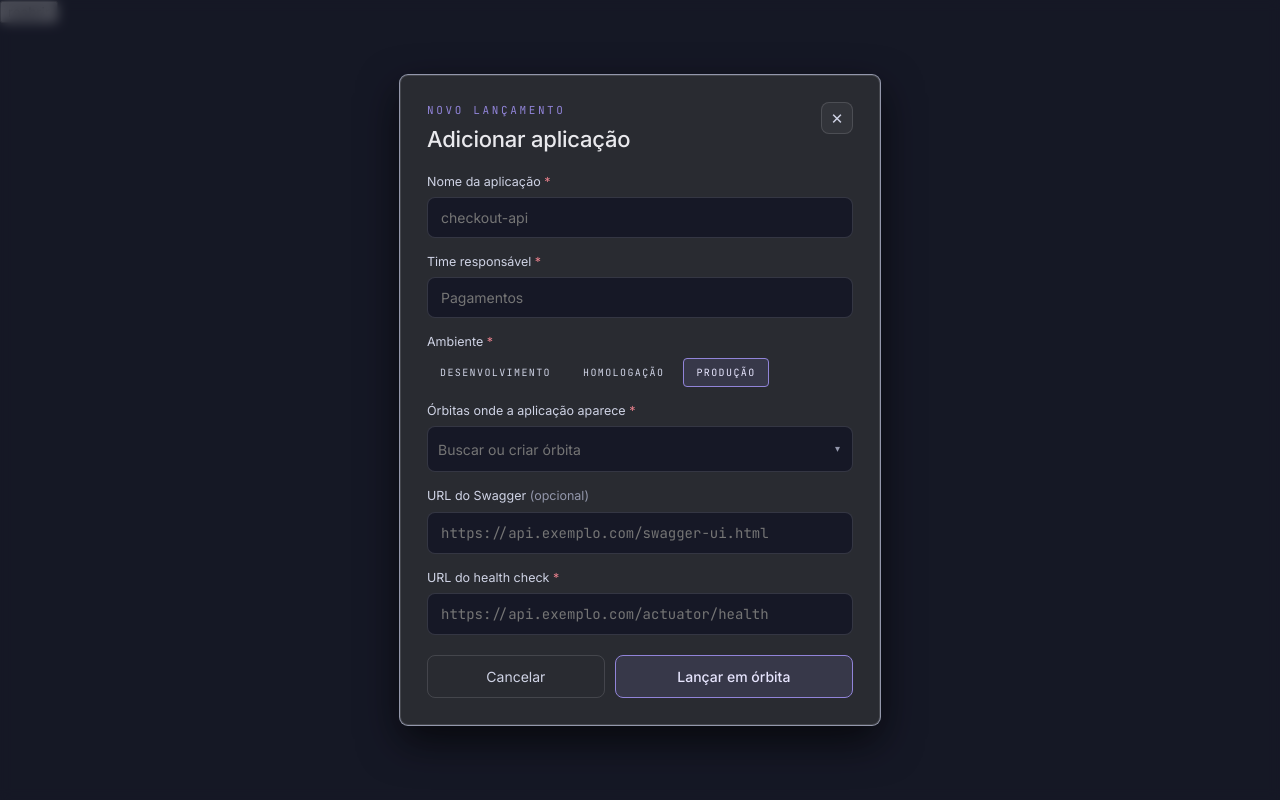
Scenario: AppFormDialog: time › sugere os times cadastrados, filtra pelo texto e escolhe com o mouse
Step 1. Click the field labelled "Time responsável *" → click(640, 298), box [427,278,853,318]
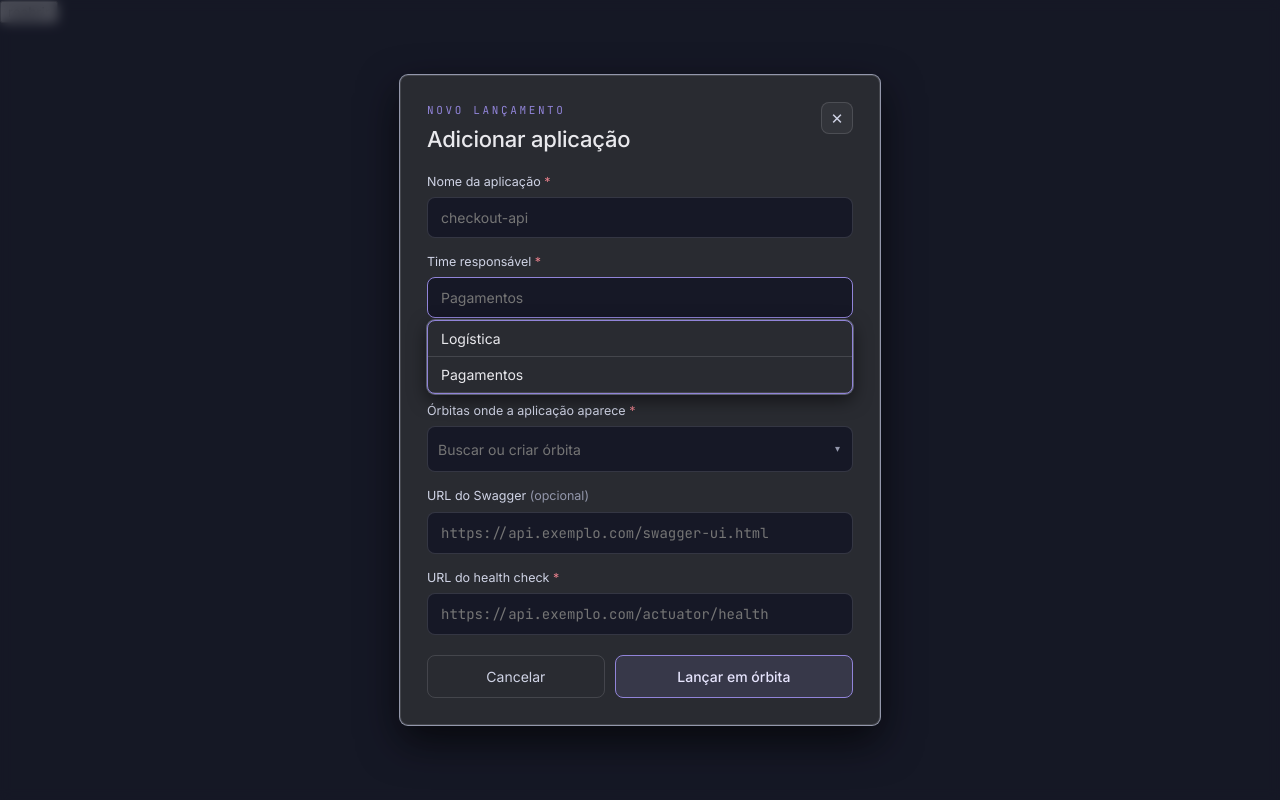
Expected: the button "Logística" is shown, [428,322,852,358]
Expected: the button "Pagamentos" is shown, [428,358,852,394]
Step 2. Type "pag" into the field labelled "Time responsável * Logística Pagamentos" → (640, 298), box [427,278,853,318]
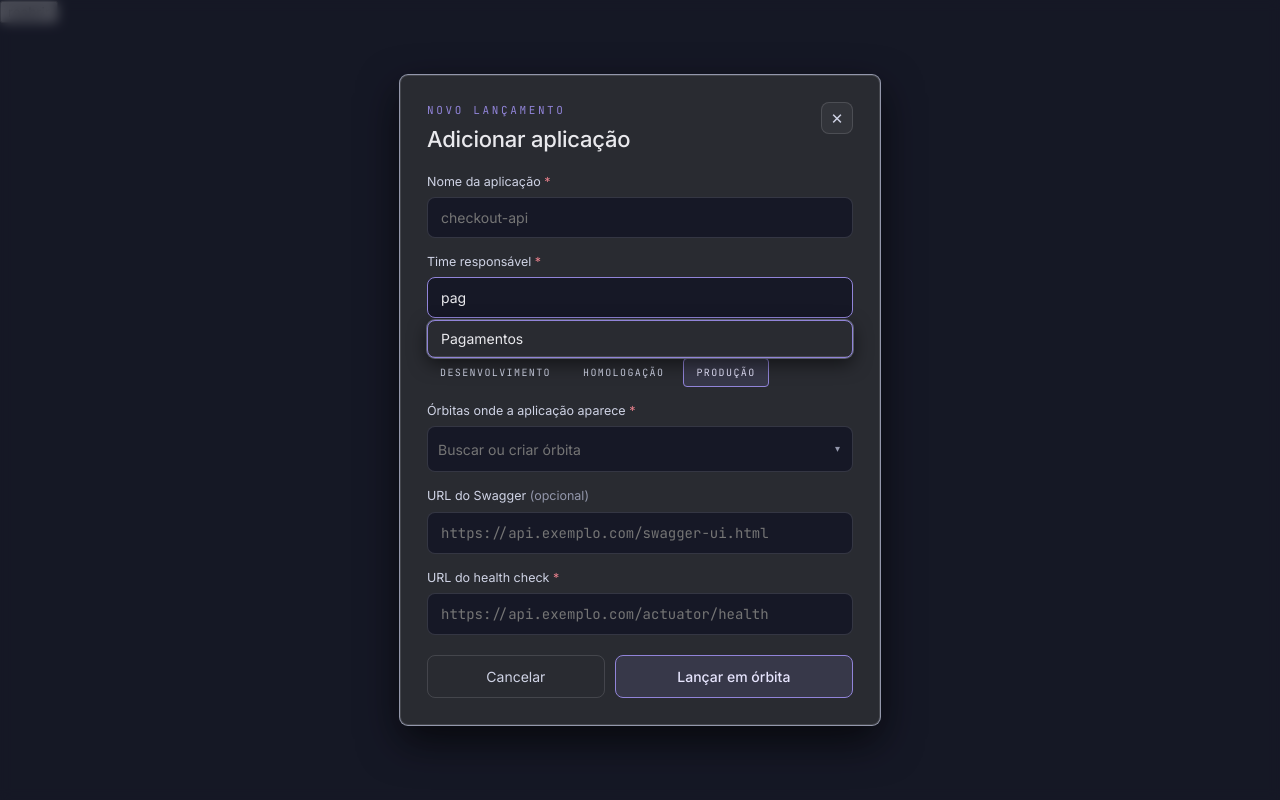
Expected: the button "Logística" is gone
Step 3. Click the button "Pagamentos" → click(482, 339), box [428,322,852,358]
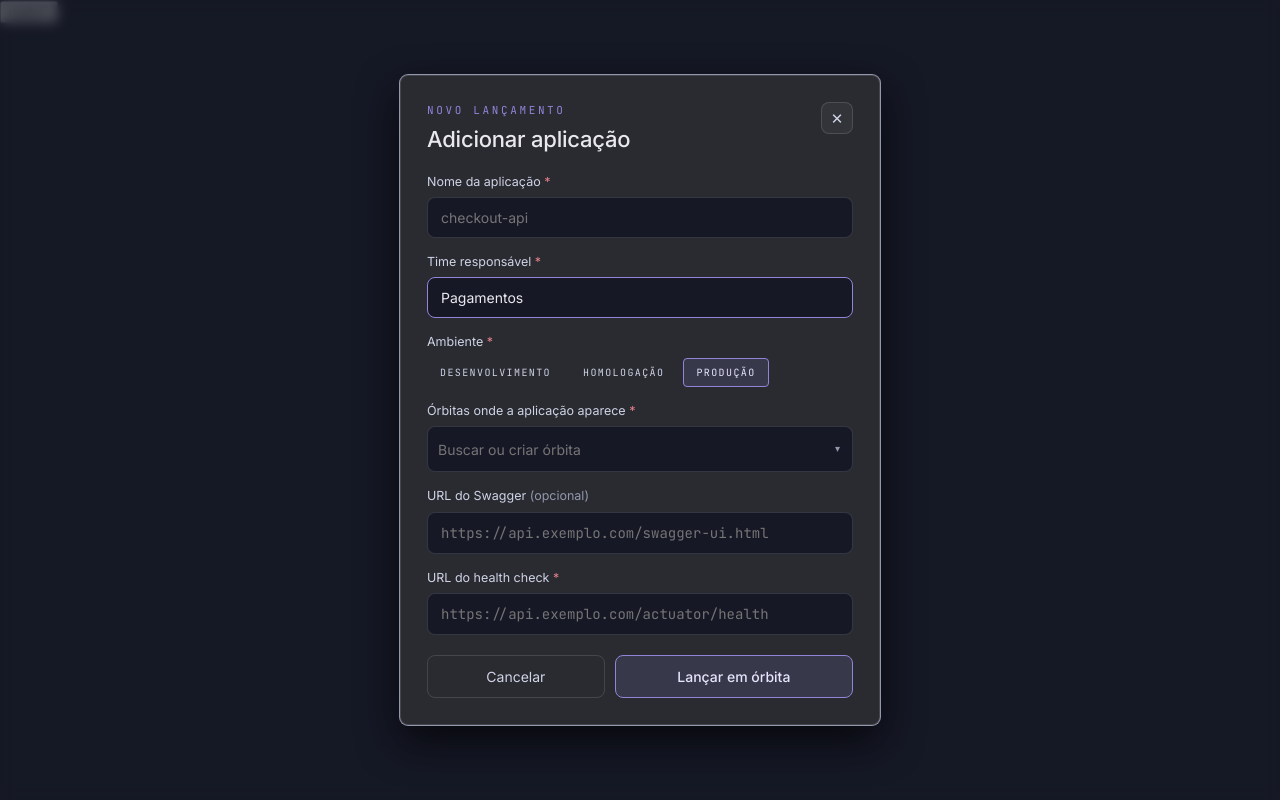
Expected: the field labelled "Time responsável *" holds "Pagamentos", [427,278,853,318]
